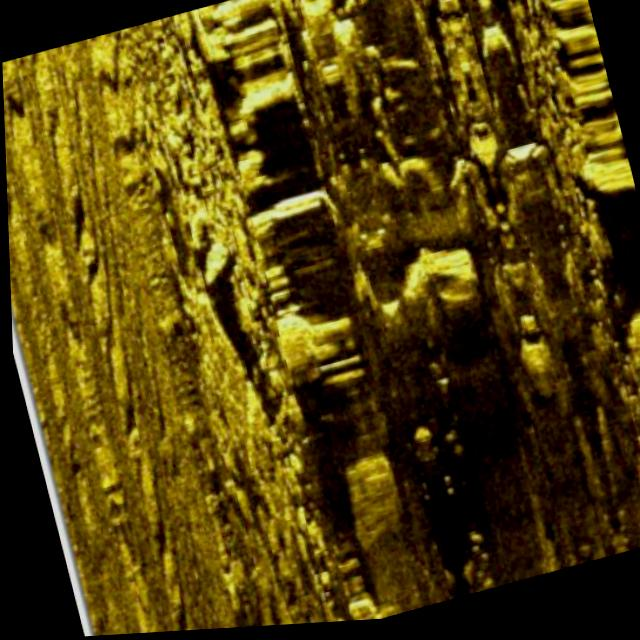bedrock group: (82, 0, 640, 636)
